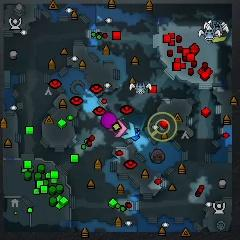Other: (148, 111, 176, 142)
p1: (132, 129, 140, 141)
p3: (101, 112, 117, 129)
x1: (114, 120, 127, 138)
x2: (210, 36, 226, 43)
x3: (120, 122, 135, 140)
